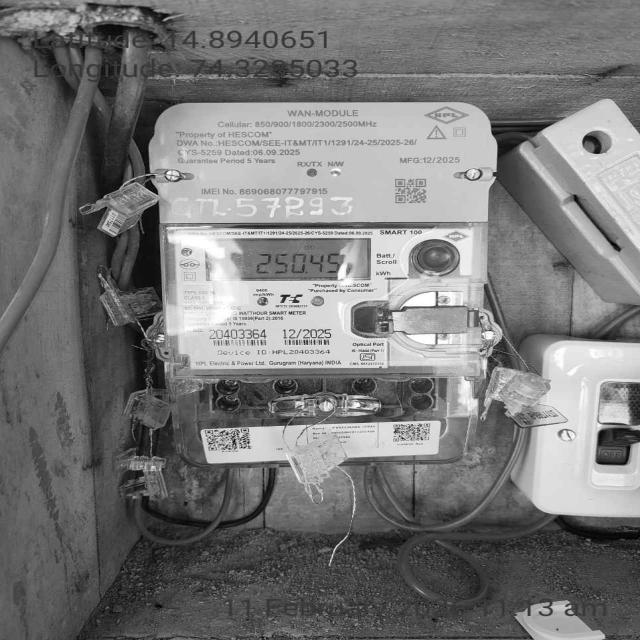meter: (157, 105, 498, 378)
